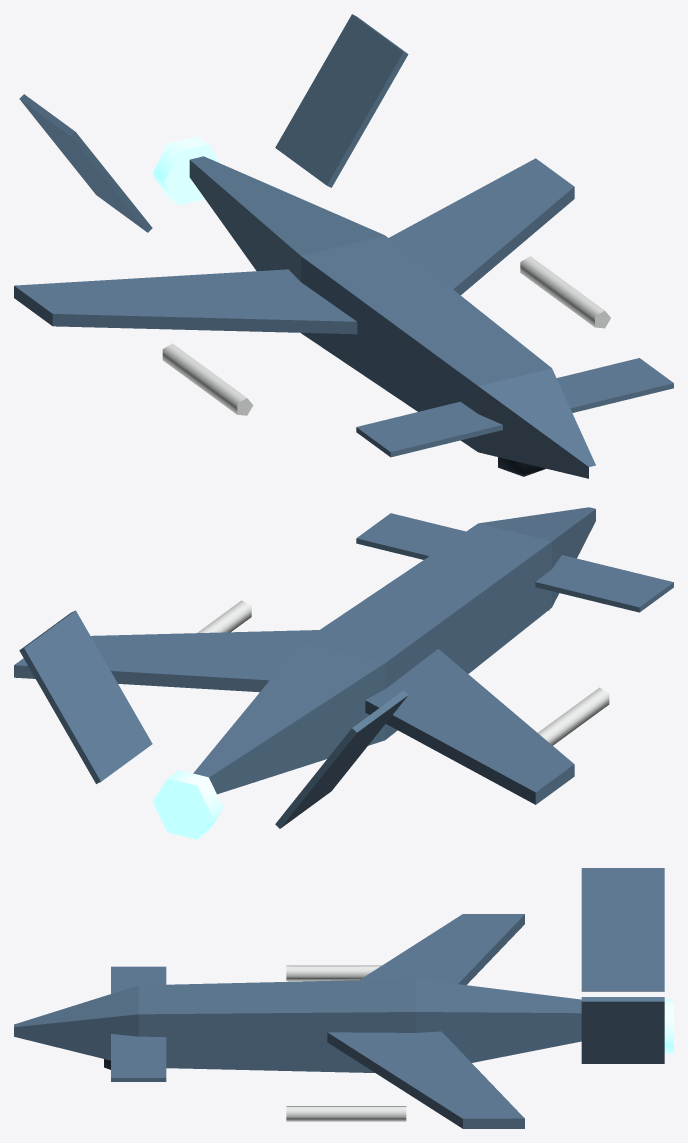
The model's file is veh_air_drone_strike_a10_lod2.glb.
3 views of the same model, one above another, from view 1: azimuth 30°, elevation 25°; view 2: azimuth 150°, elevation 25°; view 3: azimuth 270°, elevation 25° (orthographic). The views are drawn at different scales.
Visible parts, largest first — view 1: body; view 2: body; view 3: body.
Boxes of the visible parts, x1,y1,x2,y2 form: body: [14, 14, 673, 478]; body: [14, 507, 673, 839]; body: [14, 868, 673, 1128].
Bounding box in the file's own units: 5.25 × 1.7 × 7.15.
